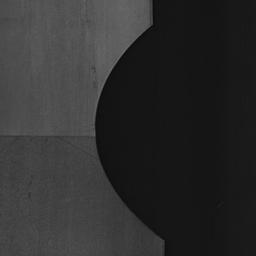Crescent gap: (95, 25, 164, 241)
